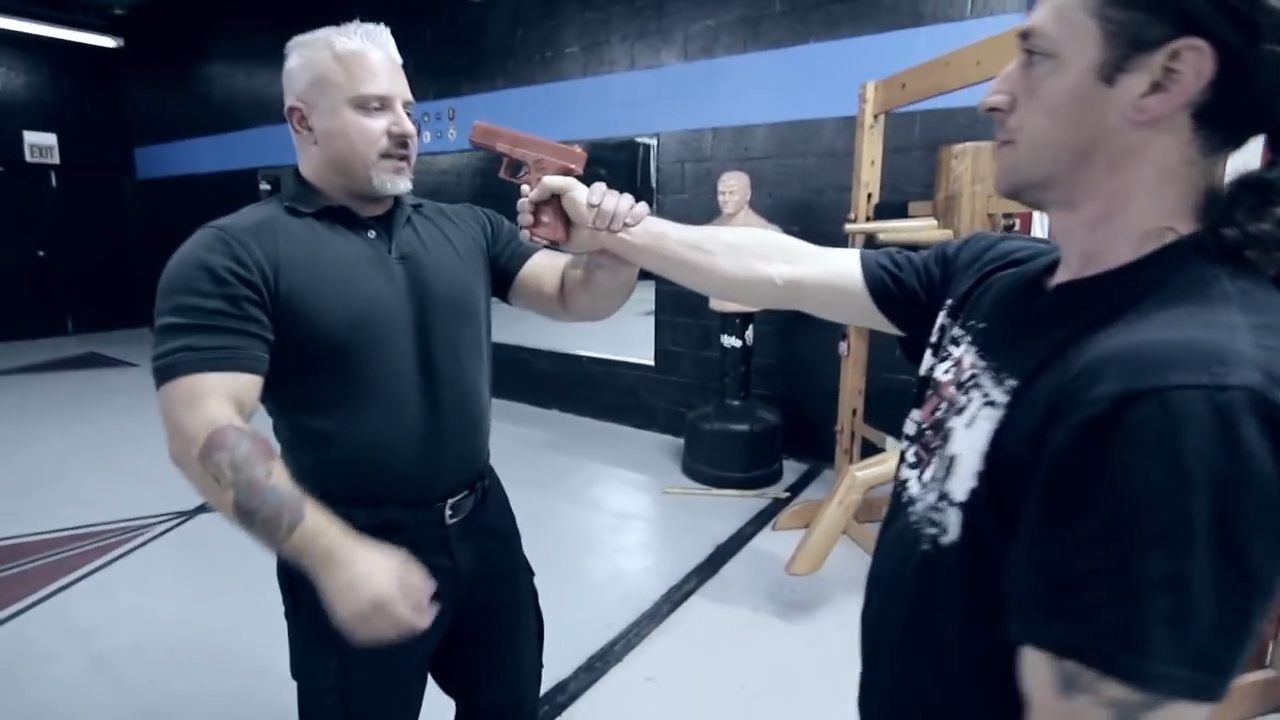pistol: (468, 118, 590, 246)
